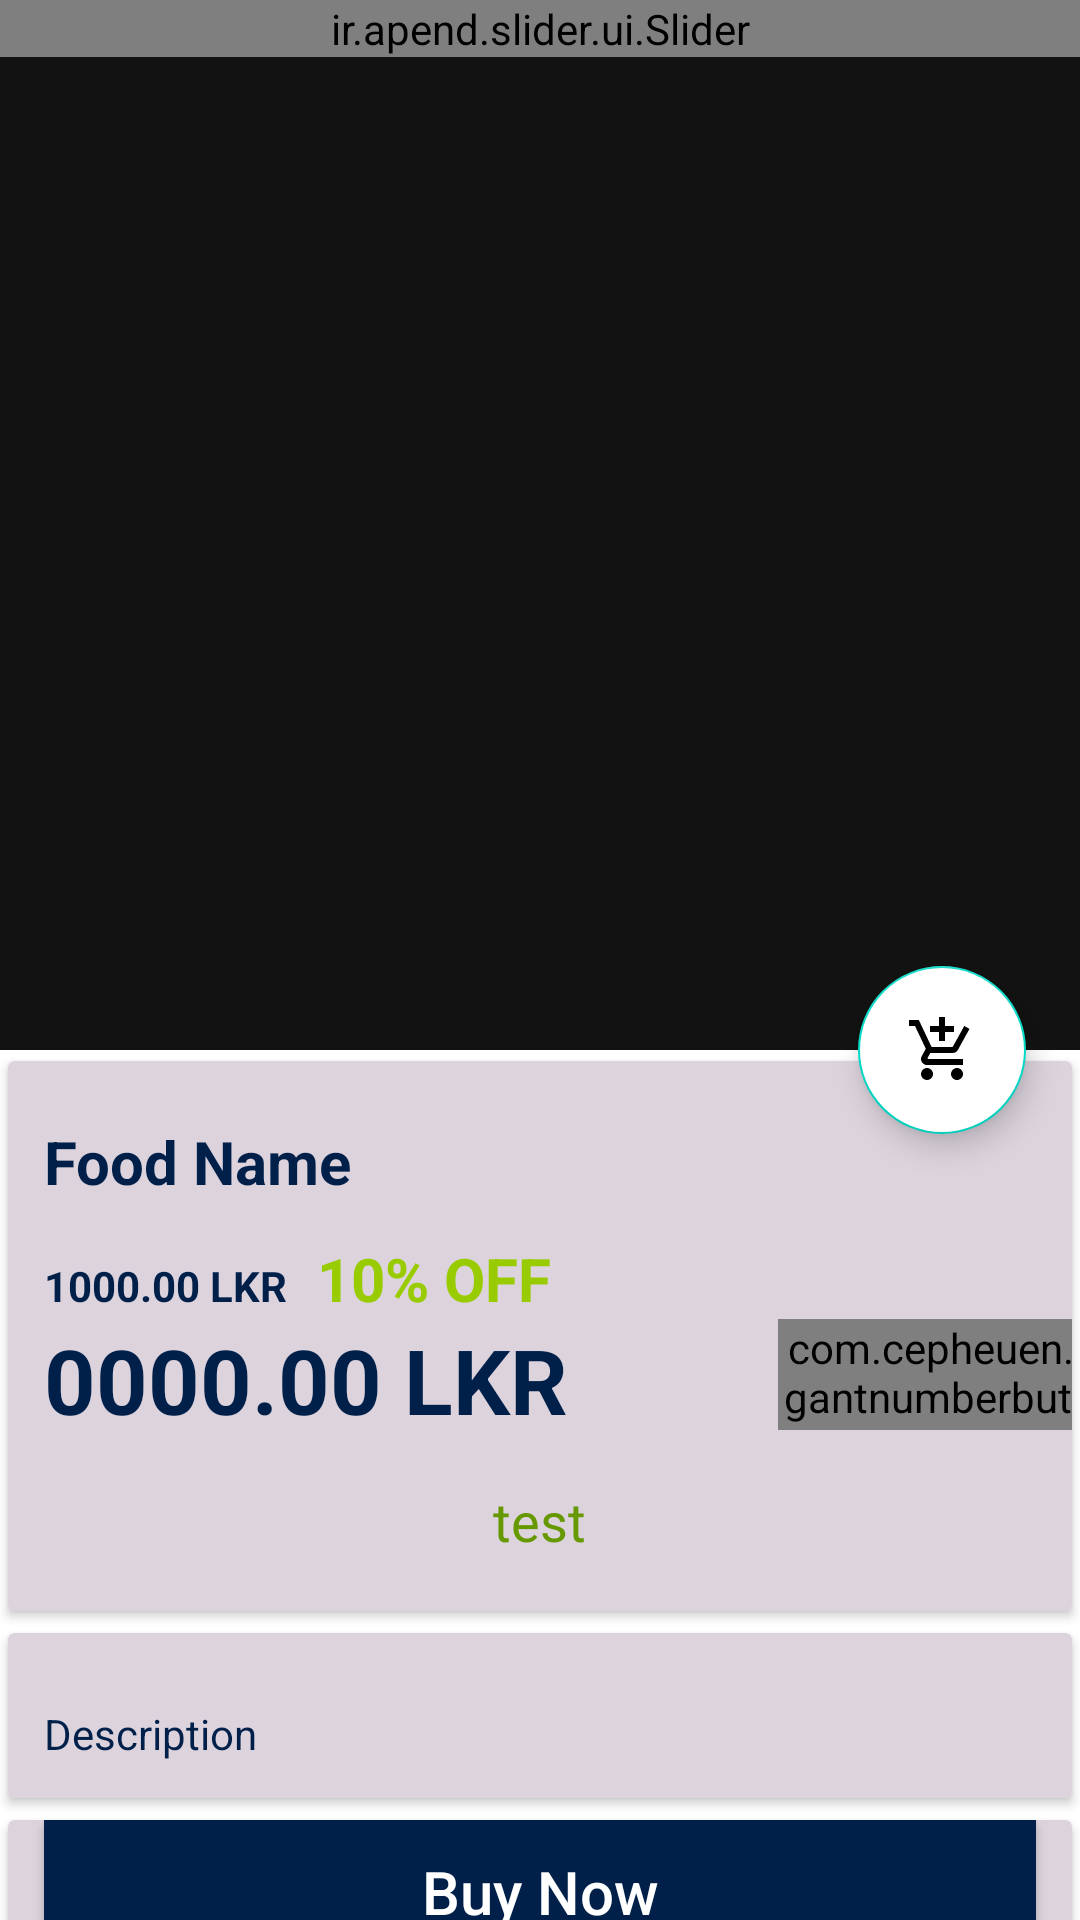

Point at icon controls on the screen. Image size 1080×1920, points as (x,y).
add shopping cart: (942,1050)
